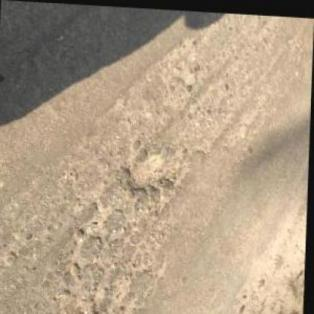Hueco: (125, 153, 173, 194)
